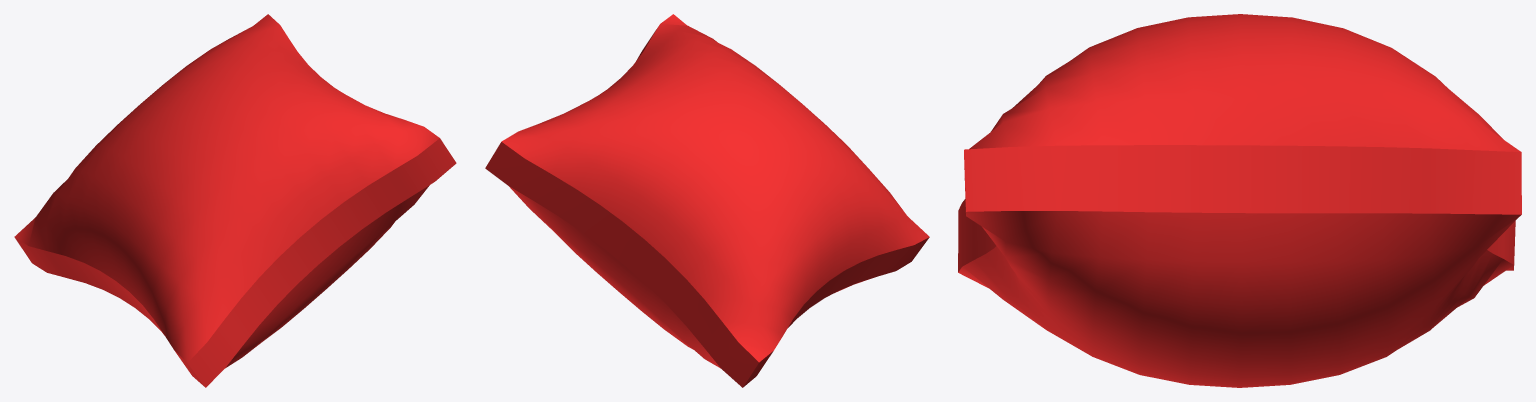
File: cuision.FBX
3 views of the same model, side by side, from view 1: azimuth 30°, elevation 25°; view 2: azimuth 150°, elevation 25°; view 3: azimuth 270°, elevation 25° (orthographic). The views are drawn at different scales.
Parts seen in each view (by area): view 1: cuision; view 2: cuision; view 3: cuision.
Boxes of the visible parts, x1,y1,x2,y2 form: cuision: (14, 14, 456, 387); cuision: (485, 14, 929, 387); cuision: (958, 14, 1521, 387).
Bounding box in the file's own units: 402 × 325 × 442.
